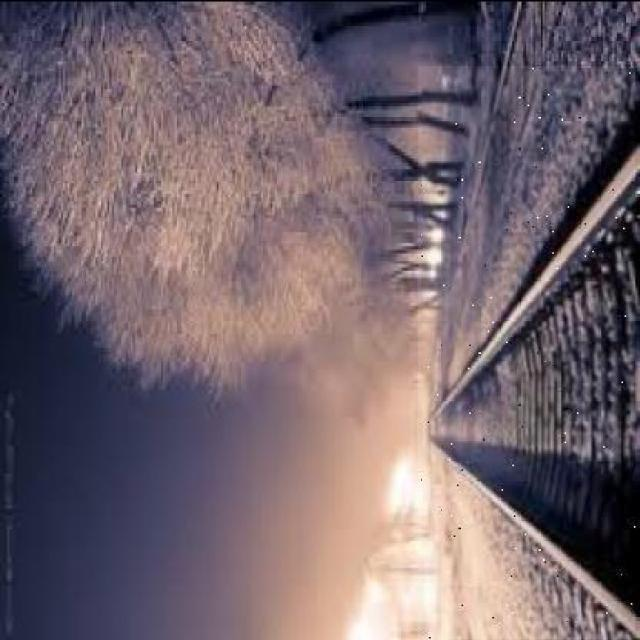rail: (420, 67, 636, 640)
